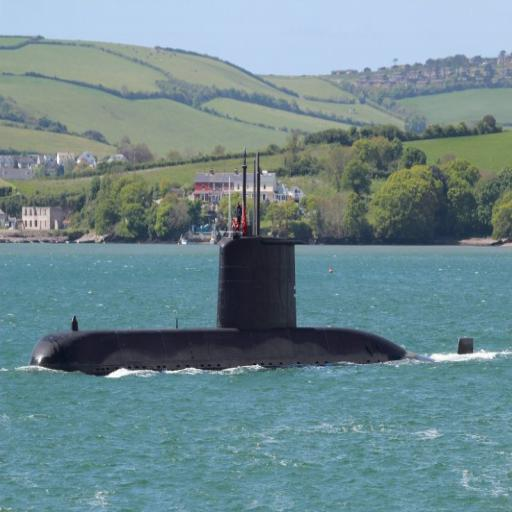submarine: (29, 138, 506, 388)
